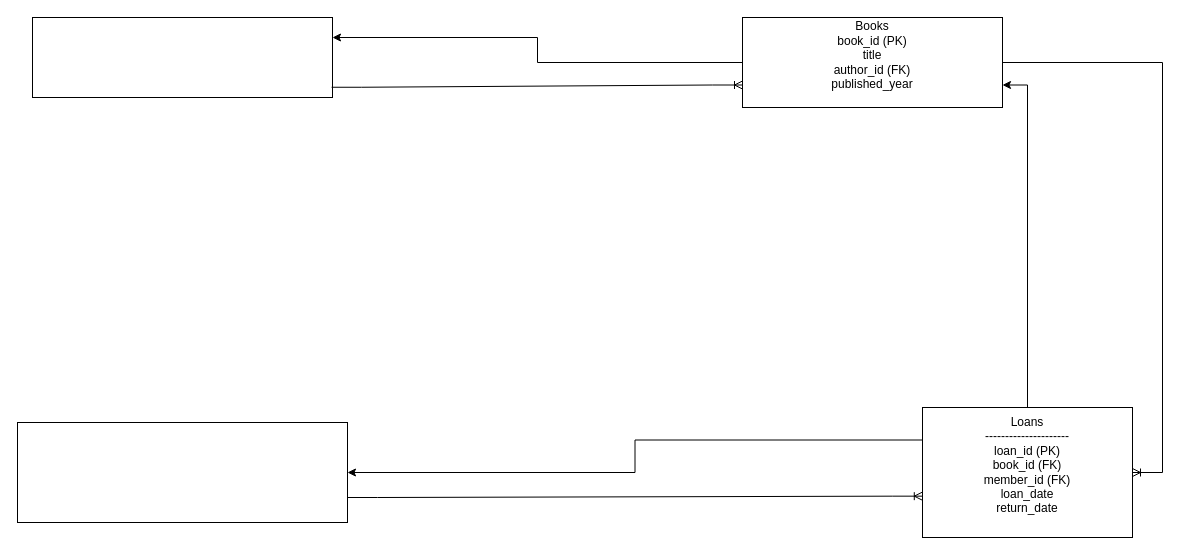
Image size: 1188x555. Some labels were removed from this diagram. Here are the shapes that lost their labels. From the top down, the centre of each, then its label:
(182,57): Authors author_id (PK) name country
(182,472): Members --------------------- member_id (PK) name email phone
